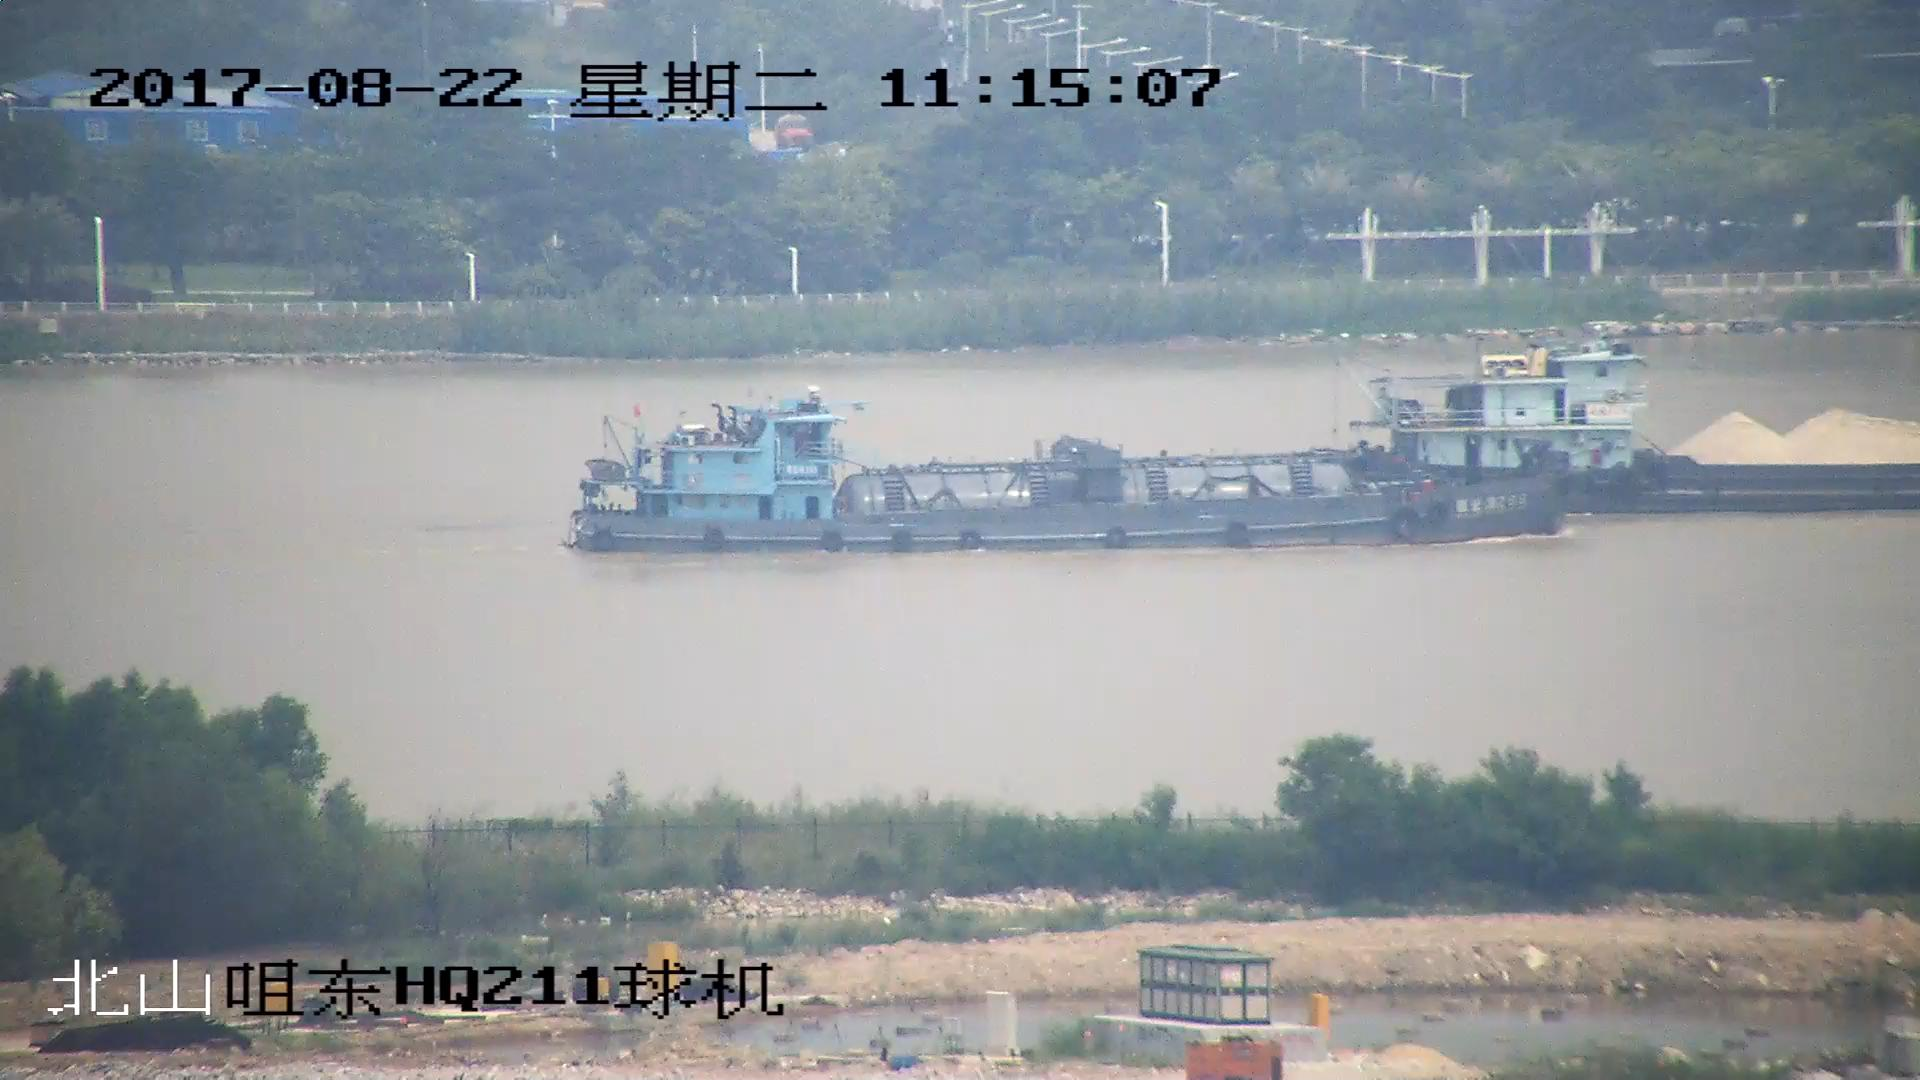bulk cargo carrier: (559, 403, 1567, 548)
ore carrier: (1342, 342, 1920, 509)
